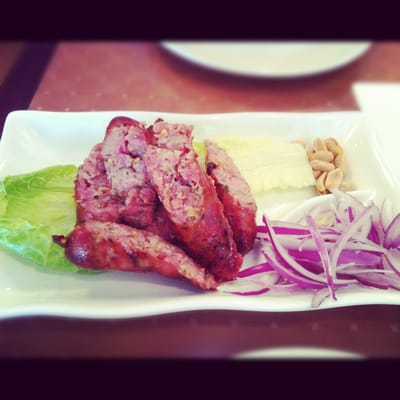soup: (63, 117, 258, 291)
